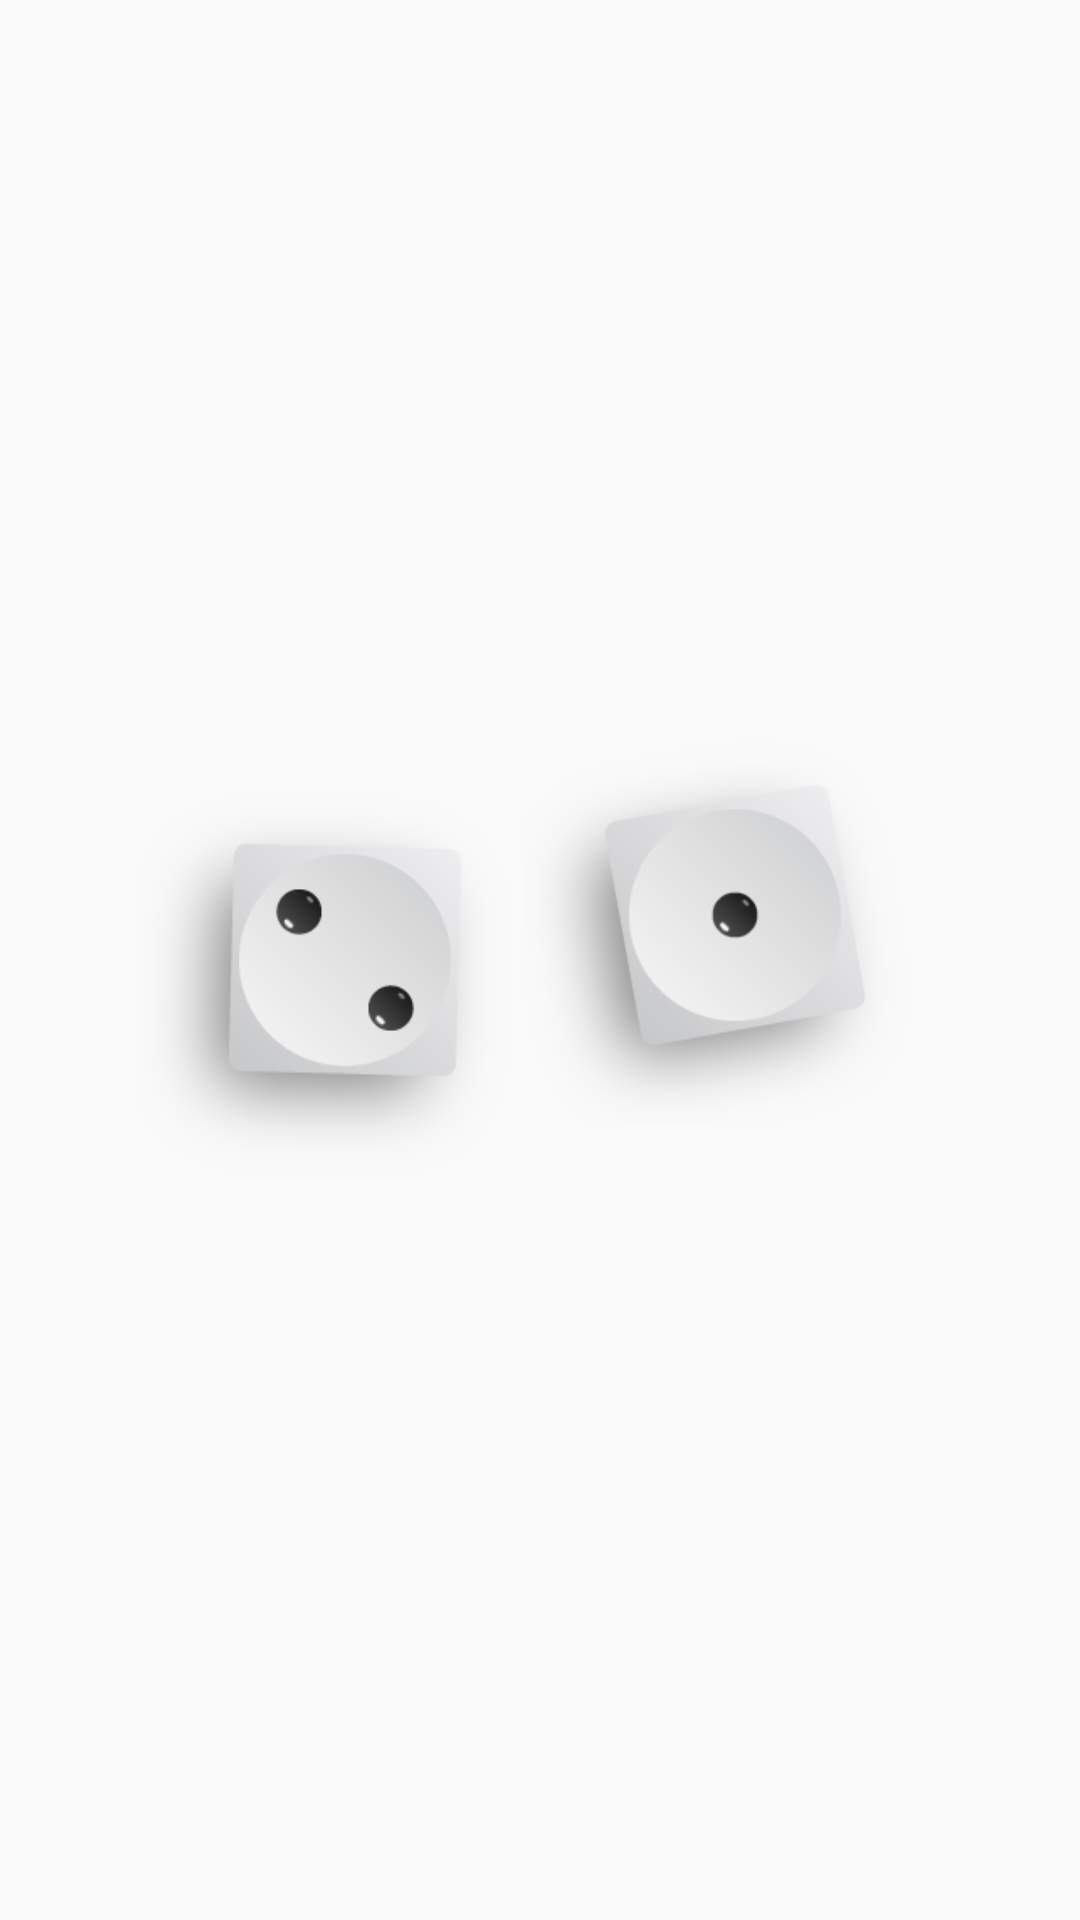

Point at icon controls on the screen. Image size 1080×1920, points as point (x, y).
dice: point (718, 941), point (322, 980)
